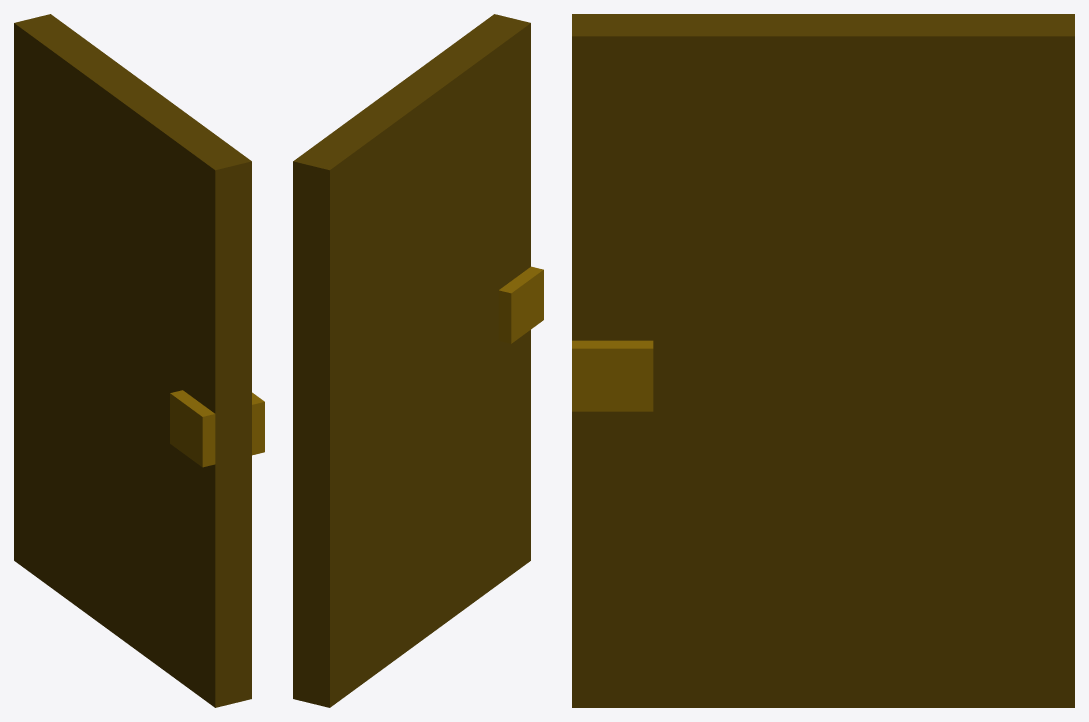
Rendered from wooden_door.glb.
3 views of the same model, side by side, from view 1: azimuth 30°, elevation 25°; view 2: azimuth 150°, elevation 25°; view 3: azimuth 270°, elevation 25° (orthographic). The views are drawn at different scales.
Visible parts, largest first — view 1: Cube.004; view 2: Cube.004; view 3: Cube.004.
Boxes of the visible parts, box(x1,y1,x2,y2) form: Cube.004: box(14, 14, 264, 707); Cube.004: box(293, 14, 543, 707); Cube.004: box(572, 14, 1074, 707).
Bounding box in the file's own units: 0.34 × 2.8 × 1.9.
1 material, 1 textured.
